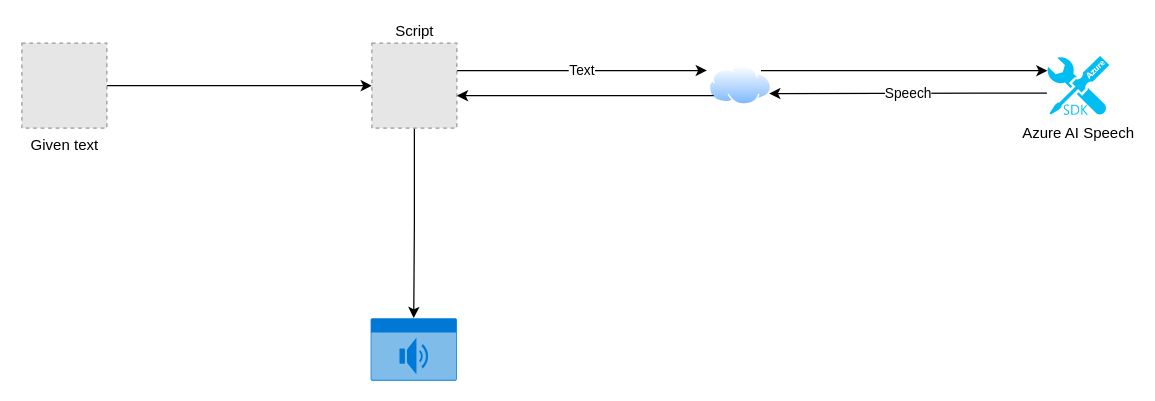
The diagram is 1155 pixels wide and 401 high, and some of its shapes have lost their labels. Grey dashed boxes stand in for pictures. The shapes that lost their labels are listed below. From the top down, each one's centre as x and y in pixels, then its label:
the point at 740,85: Internet
the point at 413,349: Audio
